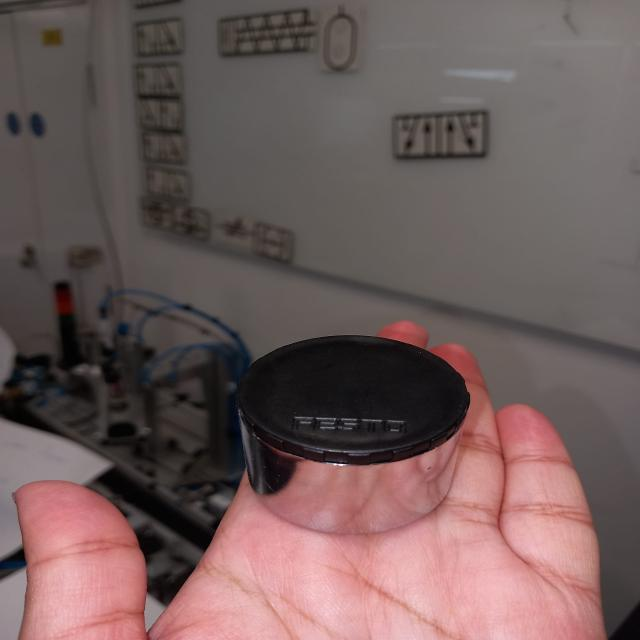Workpiece: (226, 335, 467, 541)
